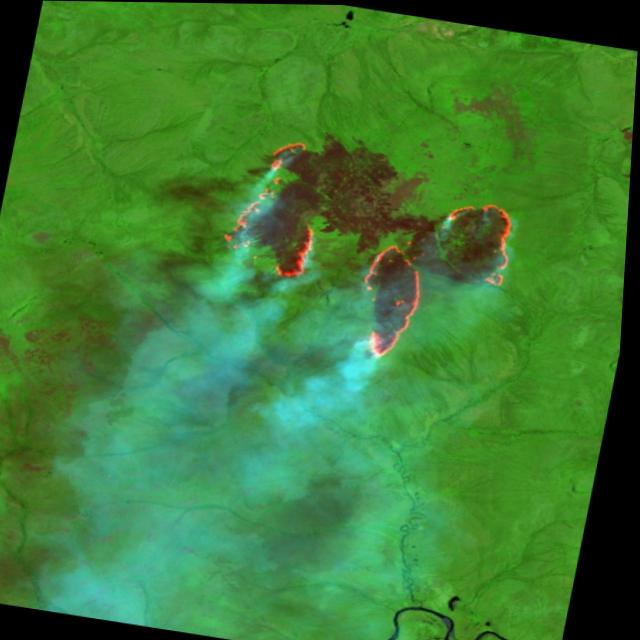fire: (197, 128, 539, 383)
